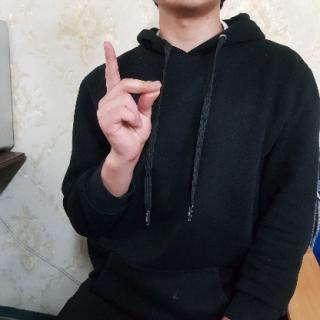TAA: (93, 36, 168, 178)
